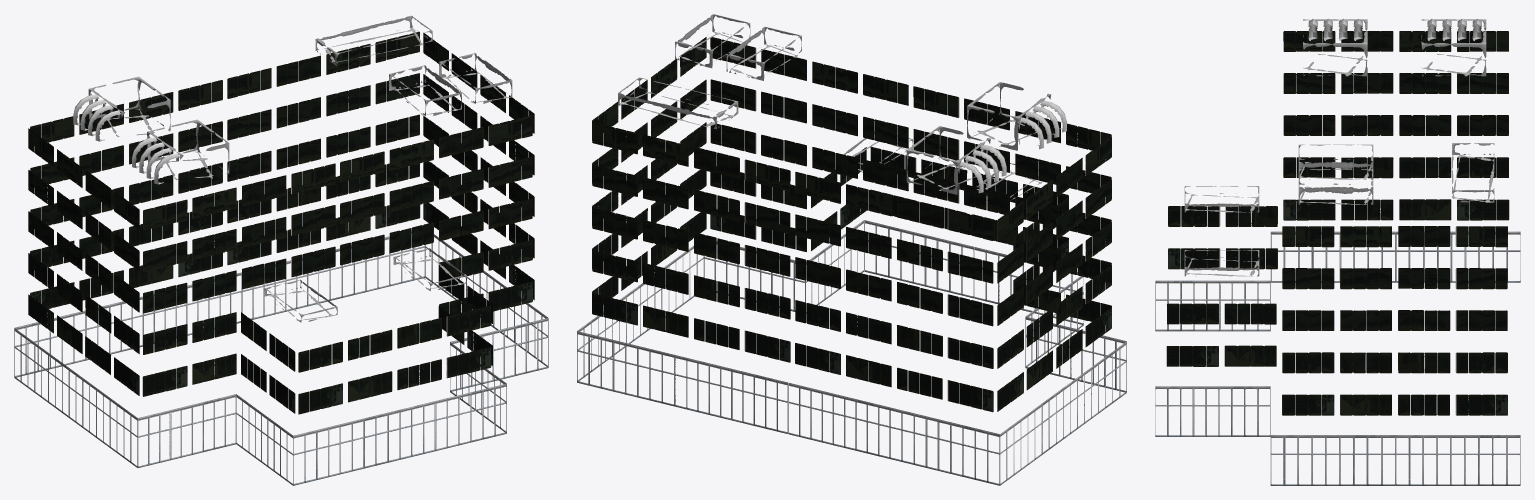
Rendered from si_building_08.fbx.
3 renders of one model, left to right at view 1: azimuth 30°, elevation 25°; view 2: azimuth 150°, elevation 25°; view 3: azimuth 270°, elevation 25°, orthographic. The views are drawn at different scales.
Parts seen in each view (by area): view 1: si_building_08; view 2: si_building_08; view 3: si_building_08.
Part boxes in pixels (x1,y1,x2,y2): si_building_08: (14, 15, 548, 485); si_building_08: (577, 14, 1126, 485); si_building_08: (1155, 18, 1520, 485).
Size of the model in its own units: 125 by 83.65 by 95.
1 material, 1 textured.
